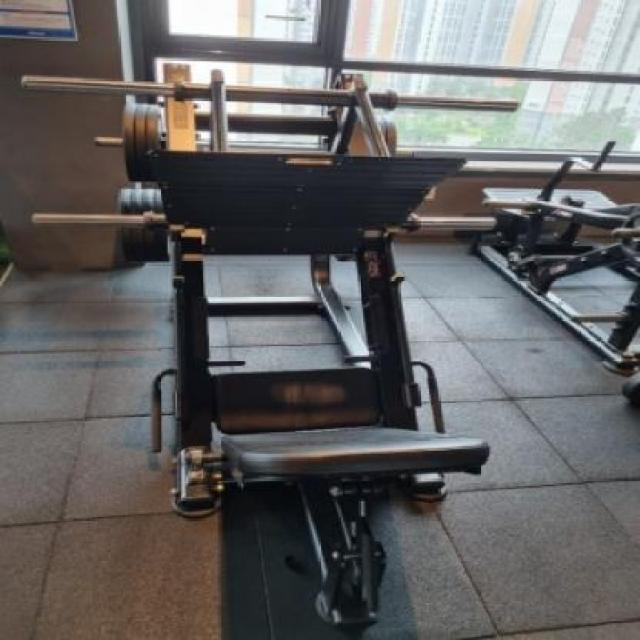leg press: (9, 37, 576, 640)
